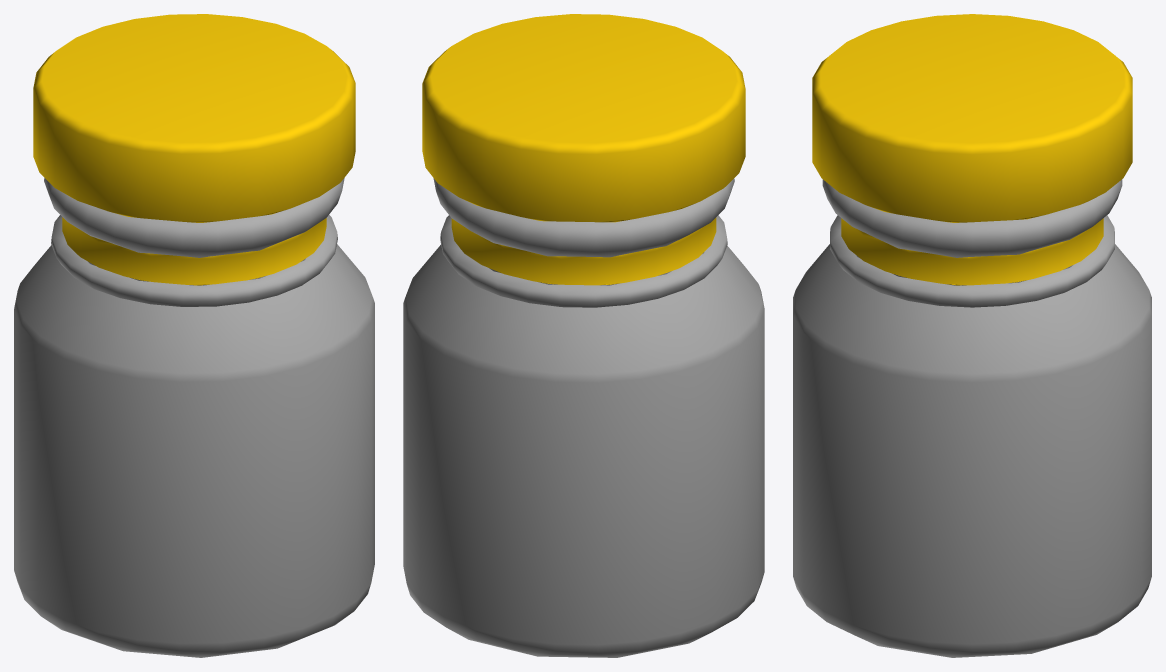
Rendered from Bottle.fbx.
3 renders of one model, left to right at view 1: azimuth 30°, elevation 25°; view 2: azimuth 150°, elevation 25°; view 3: azimuth 270°, elevation 25°, orthographic.
Visible parts, largest first — view 1: Bottle, Cap; view 2: Bottle, Cap; view 3: Bottle, Cap.
Part boxes in pixels (x1=…): Bottle: x1=14, y1=178, x2=374, y2=657; Cap: x1=33, y1=14, x2=355, y2=222; Bottle: x1=403, y1=178, x2=764, y2=657; Cap: x1=422, y1=14, x2=745, y2=222; Bottle: x1=793, y1=179, x2=1151, y2=657; Cap: x1=812, y1=14, x2=1132, y2=222.
Bounding box in the file's own units: 73.92 × 116 × 73.38.
